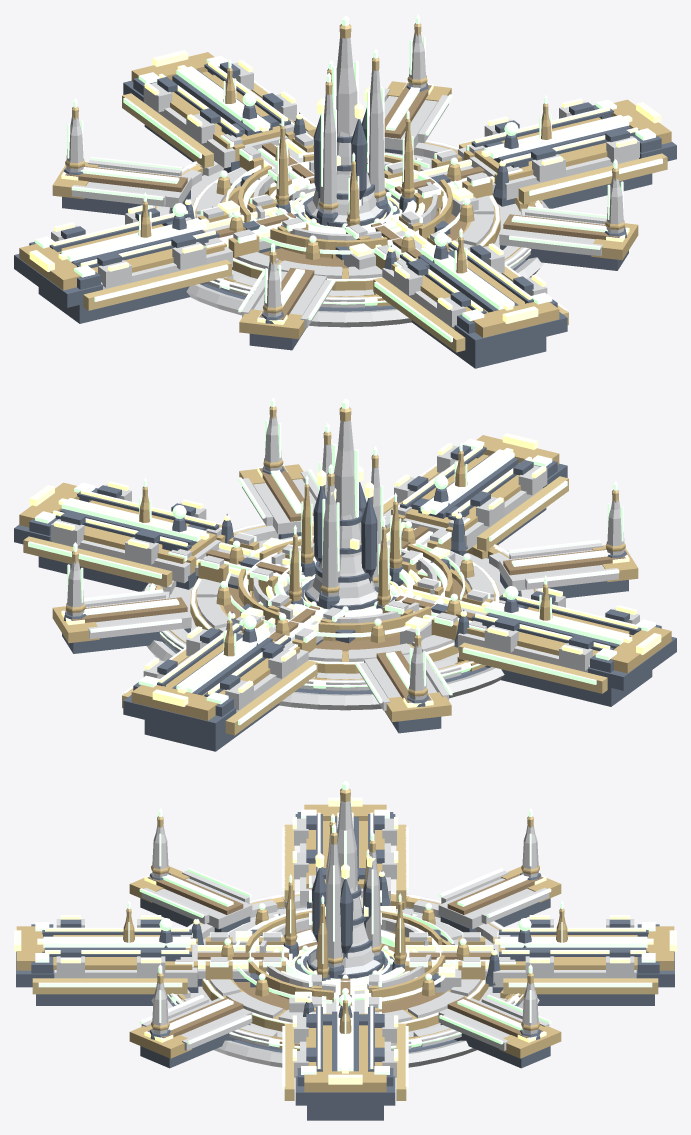
File: base_jupiter.glb
3 renders of one model, top to bottom at view 1: azimuth 30°, elevation 25°; view 2: azimuth 150°, elevation 25°; view 3: azimuth 270°, elevation 25°, orthographic. The views are drawn at different scales.
Visible parts, largest first — view 1: LOD_gunmetal_00, LOD_green_04, LOD_gold_02, LOD_white_06, LOD_ivory_01, LOD_warm_gold_07, LOD_lime_05, LOD_brass_03, LOD_golden_08; view 2: LOD_gunmetal_00, LOD_gold_02, LOD_green_04, LOD_white_06, LOD_ivory_01, LOD_warm_gold_07, LOD_lime_05, LOD_brass_03, LOD_golden_08; view 3: LOD_gunmetal_00, LOD_gold_02, LOD_green_04, LOD_white_06, LOD_ivory_01, LOD_warm_gold_07, LOD_brass_03, LOD_lime_05, LOD_golden_08.
Boxes of the visible parts, <box> form: LOD_gunmetal_00: <box>14,62,676,368</box>; LOD_green_04: <box>35,14,662,342</box>; LOD_gold_02: <box>19,52,671,339</box>; LOD_white_06: <box>66,33,638,329</box>; LOD_ivory_01: <box>51,62,639,326</box>; LOD_warm_gold_07: <box>72,23,667,352</box>; LOD_lime_05: <box>29,50,661,324</box>; LOD_brass_03: <box>65,82,625,319</box>; LOD_golden_08: <box>52,61,638,311</box>; LOD_gunmetal_00: <box>14,445,676,751</box>; LOD_gold_02: <box>19,435,671,722</box>; LOD_green_04: <box>28,397,655,725</box>; LOD_white_06: <box>52,416,624,712</box>; LOD_ivory_01: <box>51,445,639,709</box>; LOD_warm_gold_07: <box>23,406,618,735</box>; LOD_lime_05: <box>29,433,661,707</box>; LOD_brass_03: <box>65,465,625,702</box>; LOD_golden_08: <box>52,444,638,694</box>; LOD_gunmetal_00: <box>16,812,674,1120</box>; LOD_gold_02: <box>16,804,674,1092</box>; LOD_green_04: <box>35,780,655,1090</box>; LOD_white_06: <box>54,801,636,1067</box>; LOD_ivory_01: <box>56,818,634,1077</box>; LOD_warm_gold_07: <box>32,788,658,1100</box>; LOD_brass_03: <box>147,873,543,1037</box>; LOD_lime_05: <box>14,797,676,1084</box>; LOD_golden_08: <box>37,812,653,1073</box>.
Size of the model in its own units: 18.59 by 6.81 by 18.59.
